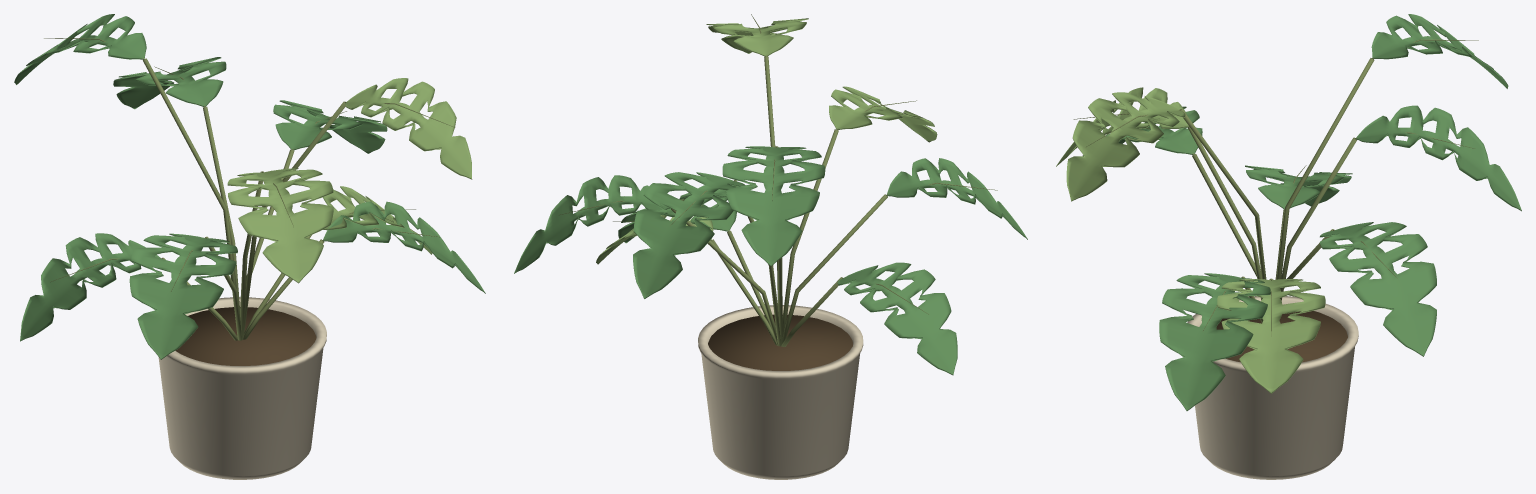
Rendered from monstera.glb.
The picture shows the model from 3 angles, left to right: view 1: azimuth 30°, elevation 25°; view 2: azimuth 150°, elevation 25°; view 3: azimuth 270°, elevation 25°; orthographic projection. The views are drawn at different scales.
Visible parts, largest first — view 1: monstera__leaves, monstera__body, monstera__young_leaves, monstera__soil, monstera__stems; view 2: monstera__leaves, monstera__body, monstera__soil, monstera__stems, monstera__young_leaves; view 3: monstera__leaves, monstera__body, monstera__young_leaves, monstera__stems, monstera__soil.
Boxes of the visible parts, box(x1,y1,x2,y2) form: monstera__leaves: box(14, 14, 485, 359); monstera__body: box(158, 297, 326, 479); monstera__young_leaves: box(227, 78, 472, 283); monstera__soil: box(175, 307, 316, 365); monstera__stems: box(44, 38, 455, 340); monstera__leaves: box(514, 146, 1027, 375); monstera__body: box(698, 305, 863, 479); monstera__soil: box(708, 314, 852, 370); monstera__stems: box(558, 14, 997, 346); monstera__young_leaves: box(596, 18, 937, 264); monstera__leaves: box(1082, 14, 1521, 410); monstera__body: box(1187, 296, 1358, 479); monstera__young_leaves: box(1056, 87, 1325, 393); monstera__stems: box(1073, 39, 1478, 336); monstera__soil: box(1216, 311, 1347, 362).
Bounding box in the file's own units: 0.7843 × 0.706 × 0.774.
